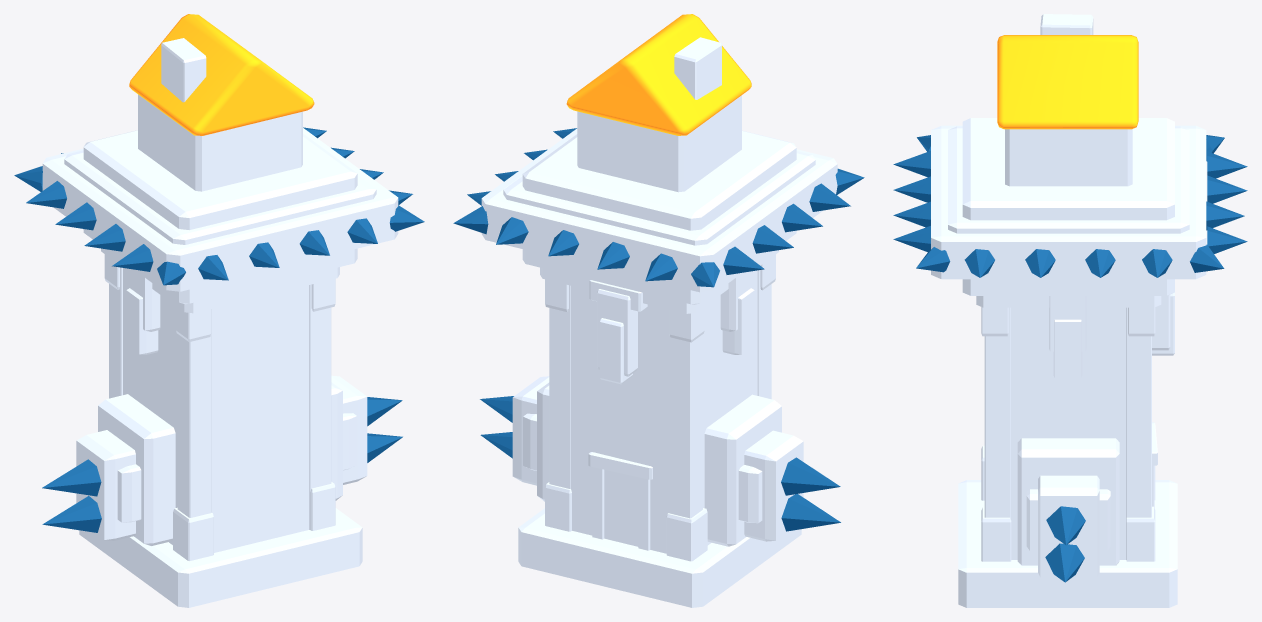
The model's file is boss-house.fbx.
3 views of the same model, side by side, from view 1: azimuth 30°, elevation 25°; view 2: azimuth 150°, elevation 25°; view 3: azimuth 270°, elevation 25° (orthographic). The views are drawn at different scales.
Parts seen in each view (by area): view 1: SM_Primitive_Cone_04__23_; view 2: SM_Primitive_Cone_04__23_; view 3: SM_Primitive_Cone_04__23_.
Part boxes in pixels (left/top/right/bottom): SM_Primitive_Cone_04__23_: left=14, top=14, right=424, bottom=607; SM_Primitive_Cone_04__23_: left=453, top=14, right=864, bottom=607; SM_Primitive_Cone_04__23_: left=893, top=14, right=1247, bottom=607.
Size of the model in its own units: 489 by 665 by 405.
